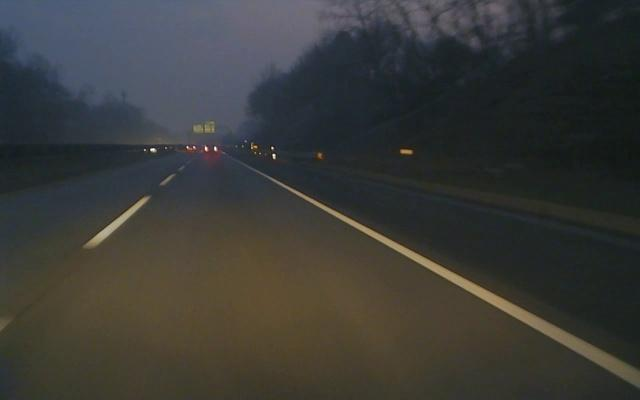lane: (229, 155, 640, 391), (81, 157, 198, 251)
